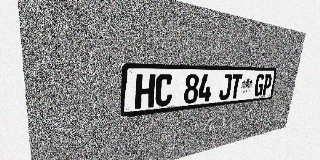4: (197, 74, 213, 102)
8: (183, 74, 200, 104)
C: (154, 74, 173, 107)
G: (253, 74, 265, 96)
H: (135, 74, 156, 109)
J: (218, 74, 233, 100)
P: (262, 74, 273, 96)
T: (229, 74, 243, 99)
